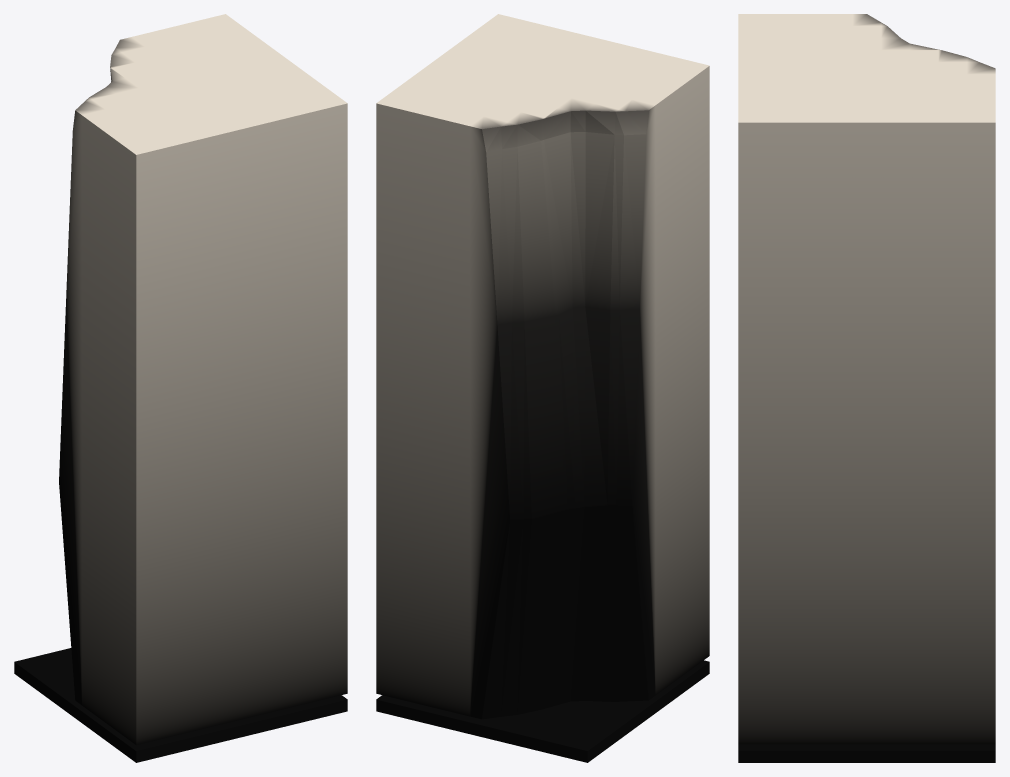
The model's file is SM_VKI_Ground_Cave_OOOX_Q11.fbx.
The picture shows the model from 3 angles, left to right: view 1: azimuth 30°, elevation 25°; view 2: azimuth 150°, elevation 25°; view 3: azimuth 270°, elevation 25°; orthographic projection. The views are drawn at different scales.
Visible parts, largest first — view 1: SM_VKI_Ground_Cave_OOOX_Q11.001; view 2: SM_VKI_Ground_Cave_OOOX_Q11.001; view 3: SM_VKI_Ground_Cave_OOOX_Q11.001.
Boxes of the visible parts, x1,y1,x2,y2 form: SM_VKI_Ground_Cave_OOOX_Q11.001: (14,14,347,762); SM_VKI_Ground_Cave_OOOX_Q11.001: (376,14,709,762); SM_VKI_Ground_Cave_OOOX_Q11.001: (738,14,995,762).
Size of the model in its own units: 1.5 by 4.12 by 1.5.
